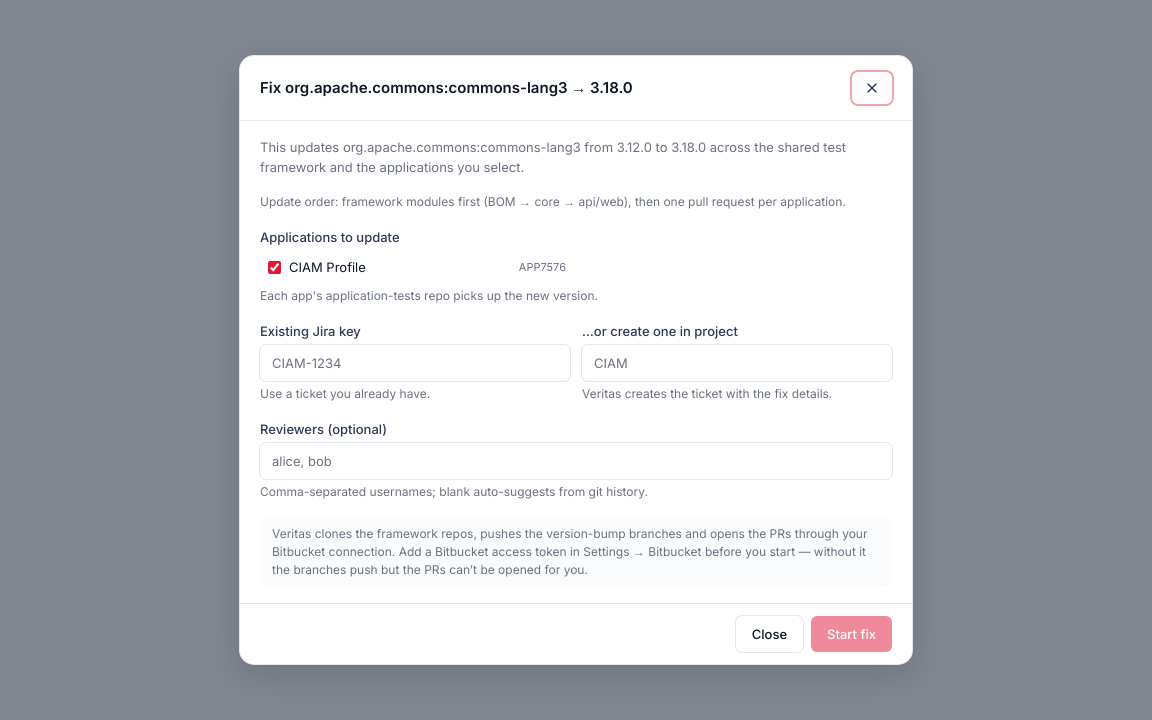
Test case: Snyk fix wizard › shows the lifecycle phase stepper: a fix that stopped at CHECKING pinpoints that exact phase
The image size is (1152, 720).
In the field with placeholder "CIAM-1234": (415, 363) [260,345,570,381], type "CIAM-1"
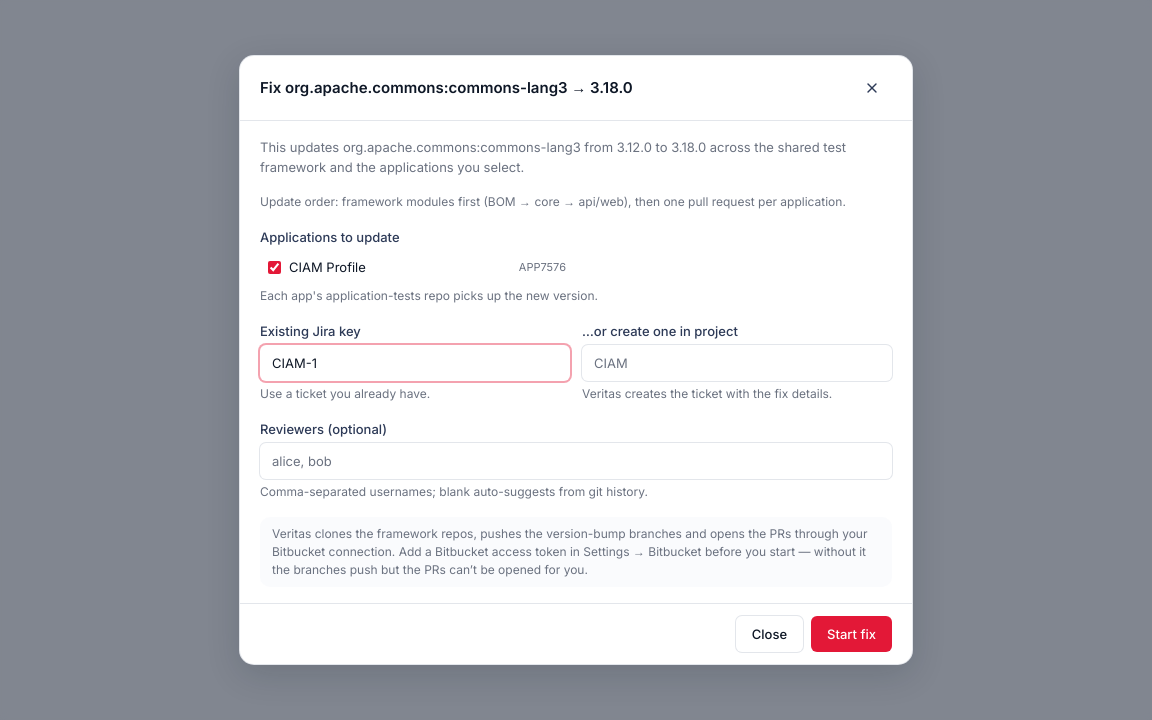
Click the button "Start fix": (852, 634) [811,616,892,652]
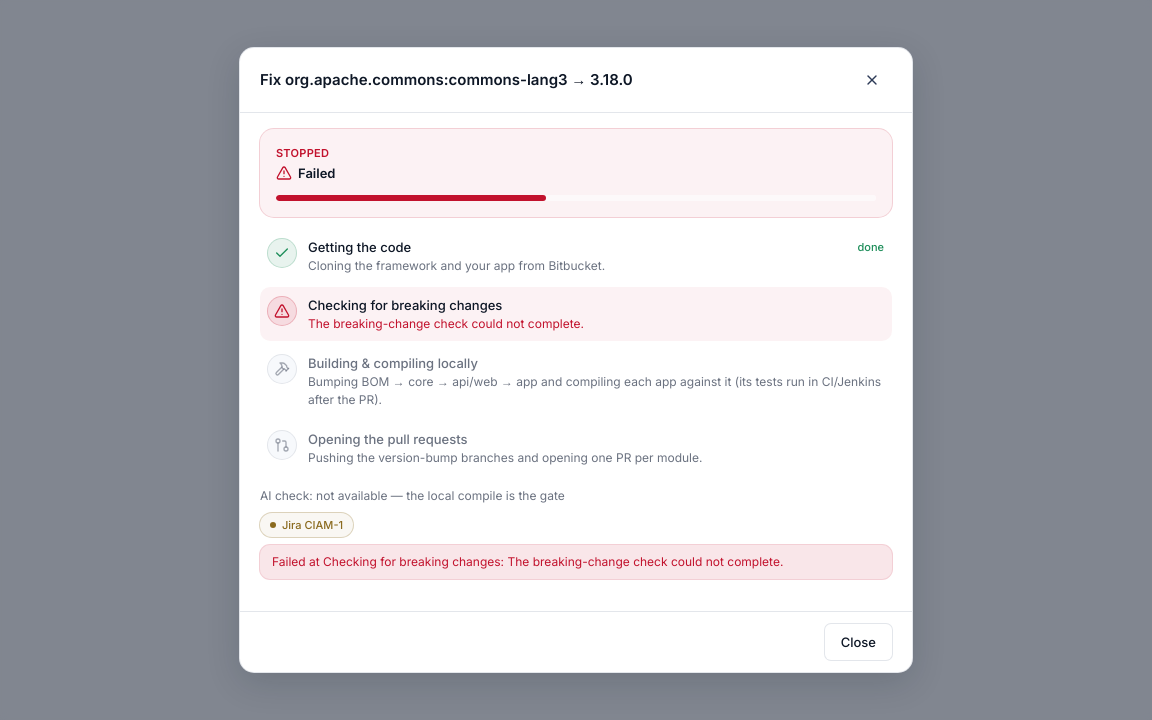
Result: the text "Getting the code" is shown at [308,237,411,257]
Result: the text "Checking for breaking changes" is shown at [308,295,502,315]
Result: the text "Building & compiling locally" is shown at [308,353,478,373]
